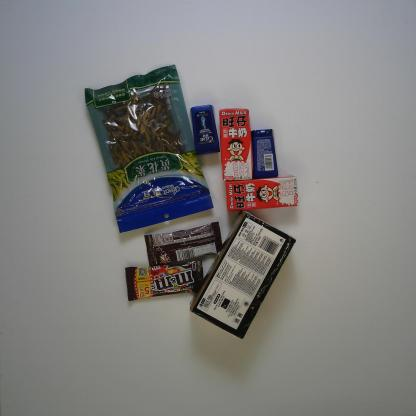Chocolate: (144, 220, 223, 267), (124, 258, 204, 302)
Dried Food: (84, 64, 215, 234)
Milk: (225, 173, 299, 212), (219, 108, 254, 181)
Personal Hygiene: (190, 104, 221, 156), (251, 129, 278, 180)
Tissue: (190, 210, 296, 340)
